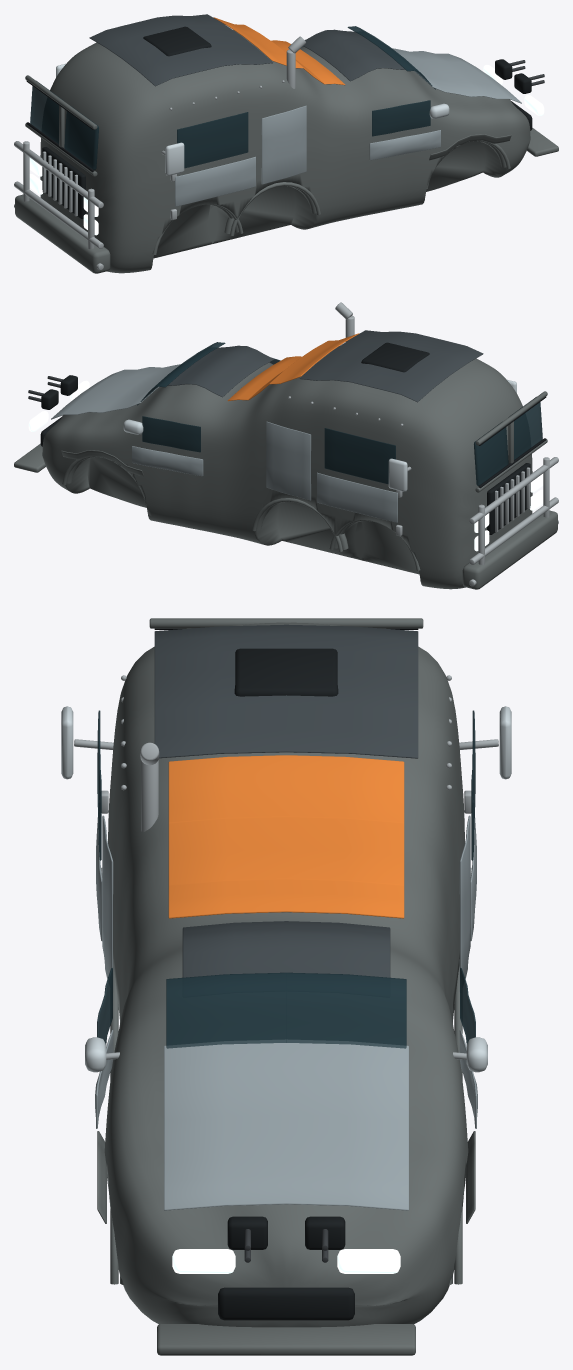
The model's file is blackjack_production_v2.glb.
3 renders of one model, top to bottom at view 1: azimuth 30°, elevation 25°; view 2: azimuth 150°, elevation 25°; view 3: azimuth 270°, elevation 25°, orthographic. The views are drawn at different scales.
Visible parts, largest first — view 1: Body_MainShell.001, Body_ArmoredRoof.001, Body_SidePanel_R.001, Body_InterceptorHood.001, Body_InterceptorRoof.001, Glass_ArmoredSide_1.001, Armor_RuggedBumper.001, Body_ArmoredDoor_R.001, Body_CenterTransition.001, Glass_InterceptorSide_1.001, Glass_ArmoredWindshield_1.001, Body_InterceptorDoor_R.001 (+14 smaller); view 2: Body_MainShell.001, Body_ArmoredRoof.001, Body_SidePanel_L.001, Body_InterceptorHood.001, Body_InterceptorRoof.001, Glass_ArmoredSide_-1.001, Armor_RuggedBumper.001, Body_ArmoredDoor_L.001, Body_CenterTransition.001, Glass_InterceptorSide_-1.001, Glass_ArmoredWindshield_-1.001, Body_InterceptorDoor_L.001 (+12 smaller); view 3: Body_MainShell.001, Body_InterceptorHood.001, Body_CenterTransition.001, Body_ArmoredRoof.001, Glass_InterceptorWindshield.001, Body_InterceptorRoof.001, Armor_InterceptorSplitter.001, Vent_RuggedRoof.001, Grille_InterceptorAirDam.001, Windshield_RuggedHeader.001, Light_InterceptorPair_1.001, Light_InterceptorPair_-1.001 (+7 smaller).
Boxes of the visible parts, <box> form: Body_MainShell.001: <box>40,30,530,273</box>; Body_ArmoredRoof.001: <box>89,14,273,86</box>; Body_SidePanel_R.001: <box>261,105,306,184</box>; Body_InterceptorHood.001: <box>392,48,521,103</box>; Body_InterceptorRoof.001: <box>303,29,405,81</box>; Glass_ArmoredSide_1.001: <box>177,112,248,168</box>; Armor_RuggedBumper.001: <box>15,194,110,273</box>; Body_ArmoredDoor_R.001: <box>175,156,255,206</box>; Body_CenterTransition.001: <box>213,17,345,85</box>; Glass_InterceptorSide_1.001: <box>372,100,430,136</box>; Glass_ArmoredWindshield_1.001: <box>64,106,98,169</box>; Body_InterceptorDoor_R.001: <box>369,130,440,160</box>; Body_MainShell.001: <box>42,346,532,589</box>; Body_ArmoredRoof.001: <box>299,330,483,402</box>; Body_SidePanel_L.001: <box>266,421,311,500</box>; Body_InterceptorHood.001: <box>51,364,181,419</box>; Body_InterceptorRoof.001: <box>167,345,274,397</box>; Glass_ArmoredSide_-1.001: <box>324,428,395,484</box>; Armor_RuggedBumper.001: <box>462,510,557,589</box>; Body_ArmoredDoor_L.001: <box>317,472,397,522</box>; Body_CenterTransition.001: <box>227,333,359,401</box>; Glass_InterceptorSide_-1.001: <box>142,416,200,452</box>; Glass_ArmoredWindshield_-1.001: <box>474,421,508,485</box>; Body_InterceptorDoor_L.001: <box>132,446,203,476</box>; Body_MainShell.001: <box>104,622,468,1327</box>; Body_InterceptorHood.001: <box>164,1039,408,1210</box>; Body_CenterTransition.001: <box>168,755,404,918</box>; Body_ArmoredRoof.001: <box>154,624,418,758</box>; Glass_InterceptorWindshield.001: <box>166,972,406,1048</box>; Body_InterceptorRoof.001: <box>182,921,390,977</box>; Armor_InterceptorSplitter.001: <box>157,1324,415,1355</box>; Vent_RuggedRoof.001: <box>234,648,338,696</box>; Grille_InterceptorAirDam.001: <box>218,1287,354,1320</box>; Windshield_RuggedHeader.001: <box>149,618,423,628</box>; Light_InterceptorPair_1.001: <box>172,1249,235,1273</box>; Light_InterceptorPair_-1.001: <box>337,1249,400,1273</box>.
Size of the model in its own units: 2.35 by 0.9387 by 0.955.
